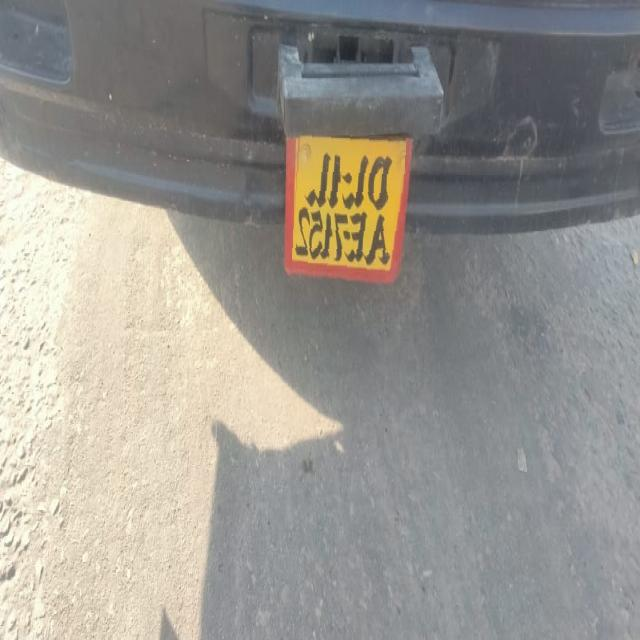License-plate: (292, 133, 404, 288)
